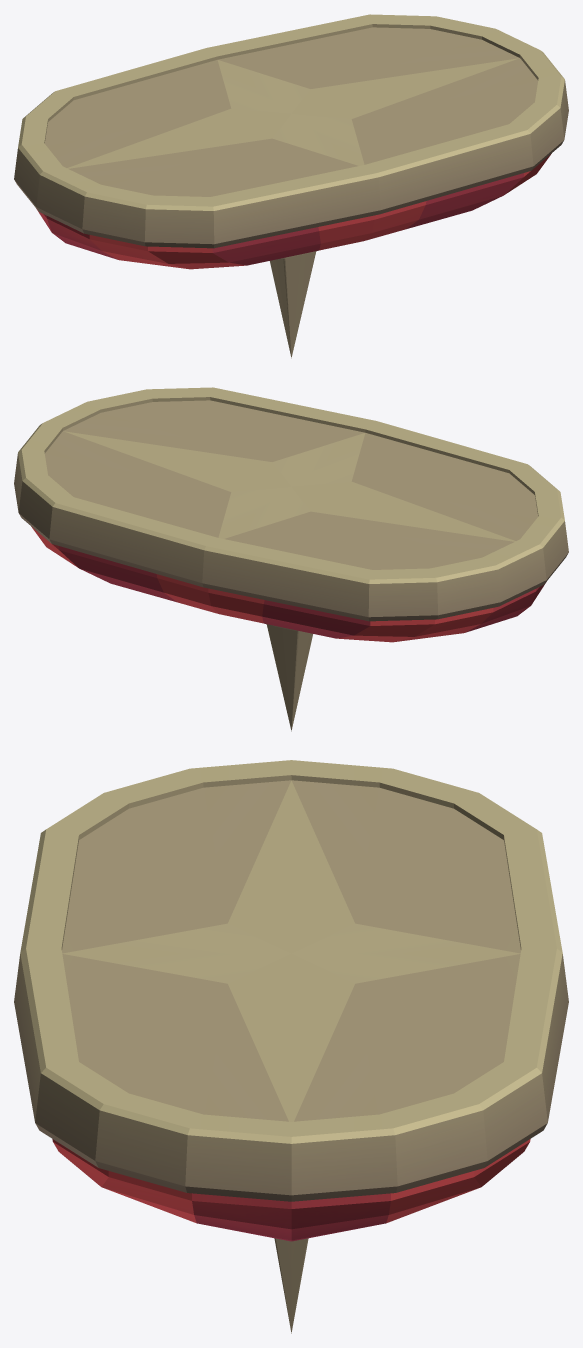
File: SM_Chandelier_5_Level2.fbx
3 views of the same model, one above another, from view 1: azimuth 30°, elevation 25°; view 2: azimuth 150°, elevation 25°; view 3: azimuth 270°, elevation 25° (orthographic). The views are drawn at different scales.
Visible parts, largest first — view 1: SM_Chandelier5; view 2: SM_Chandelier5; view 3: SM_Chandelier5.
Part boxes in pixels (x1=…): SM_Chandelier5: x1=14, y1=14, x2=568, y2=358; SM_Chandelier5: x1=14, y1=387, x2=568, y2=731; SM_Chandelier5: x1=14, y1=760, x2=568, y2=1333.
Bounding box in the file's own units: 502 × 304 × 233.
